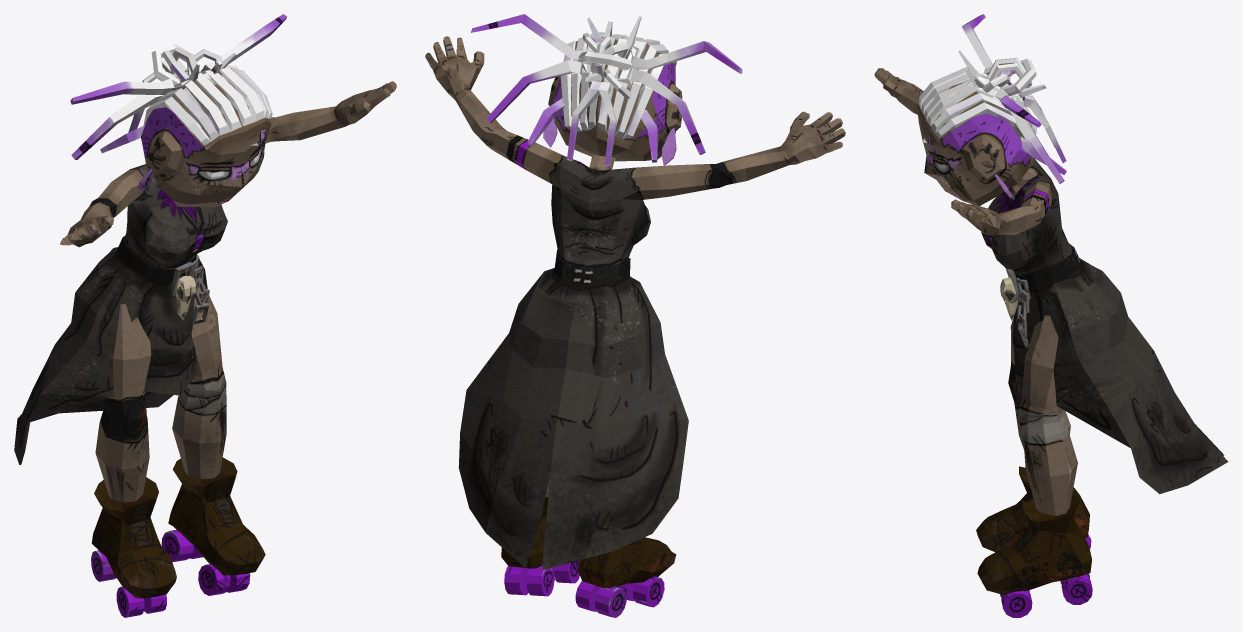
Rendered from bruja_000193.obj.
3 renders of one model, left to right at view 1: azimuth 30°, elevation 25°; view 2: azimuth 150°, elevation 25°; view 3: azimuth 270°, elevation 25°, orthographic. The views are drawn at different scales.
Visible parts, largest first — view 1: Bruja_Plane.001; view 2: Bruja_Plane.001; view 3: Bruja_Plane.001.
Part boxes in pixels (x1,y1,x2,y2): Bruja_Plane.001: (14, 14, 396, 617); Bruja_Plane.001: (425, 14, 845, 617); Bruja_Plane.001: (874, 14, 1228, 617).
Bounding box in the file's own units: 11.27 × 16.18 × 9.72.
